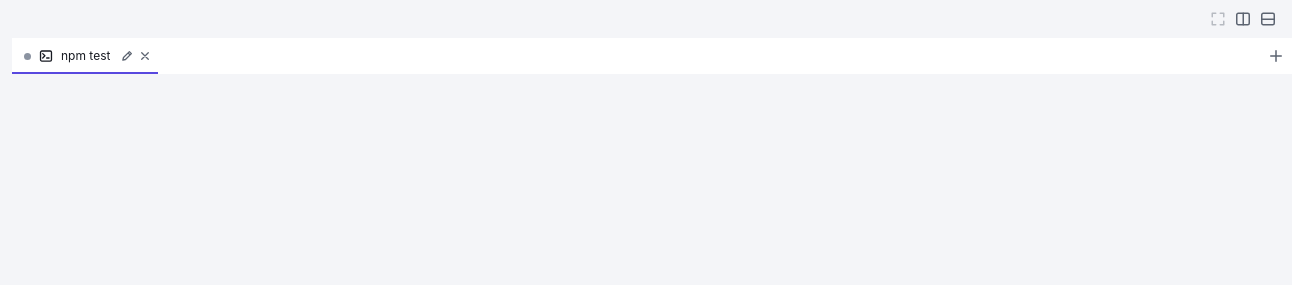
Test: the pane buttons at the end of the strip › opens the menu rather than a pane when pressed
Click the button named "New tab": click(1276, 56) left=1264, top=44, right=1288, bottom=68
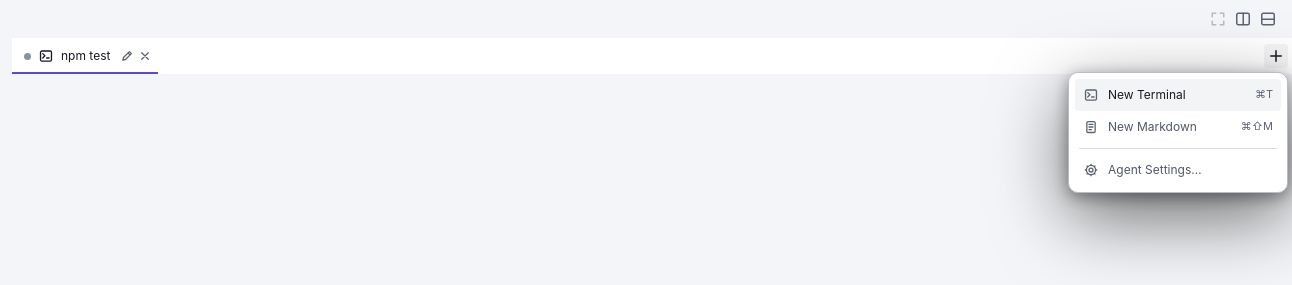
Check: the menu named "New tab" is shown, box left=1068, top=72, right=1288, bottom=193
